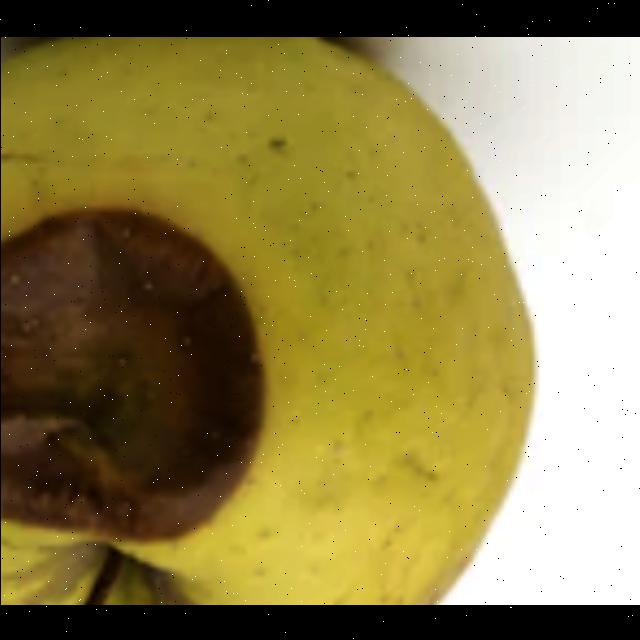Apel Tidak Segar: (1, 36, 544, 604)
